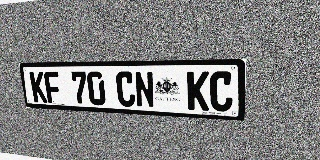0: (86, 71, 106, 106)
7: (70, 71, 89, 105)
C: (210, 71, 233, 112), (115, 71, 136, 107)
F: (43, 71, 62, 103)
K: (187, 71, 209, 111), (29, 72, 47, 103)
N: (134, 71, 155, 108)
